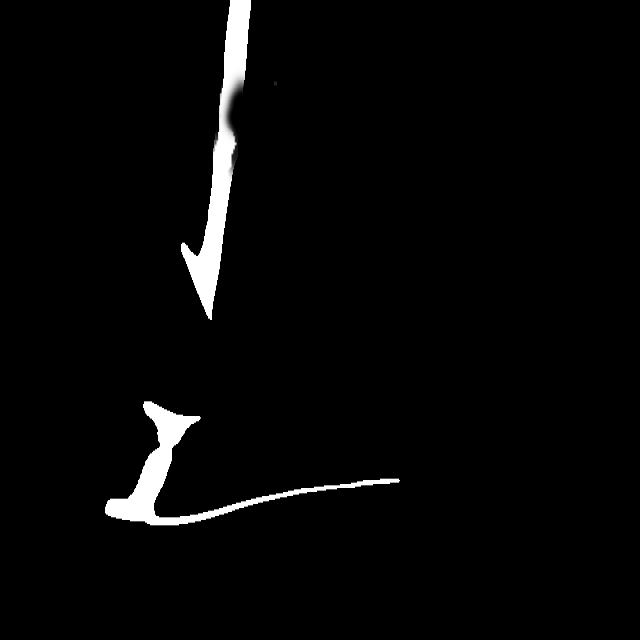sl: (210, 70, 255, 164)
